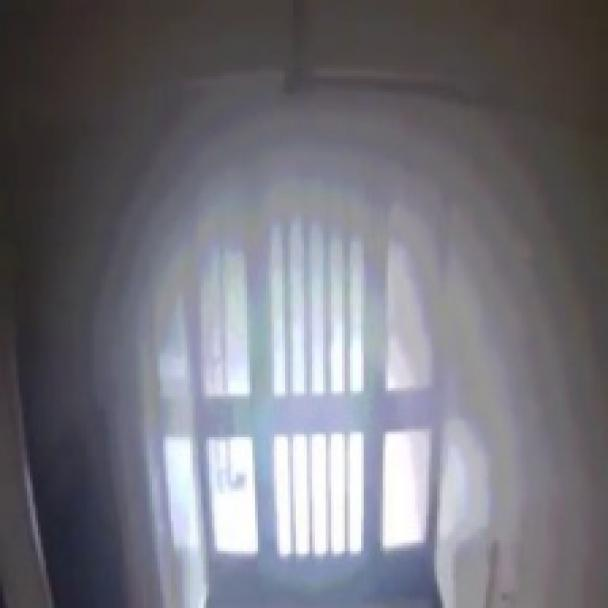smoke: (145, 64, 572, 392)
